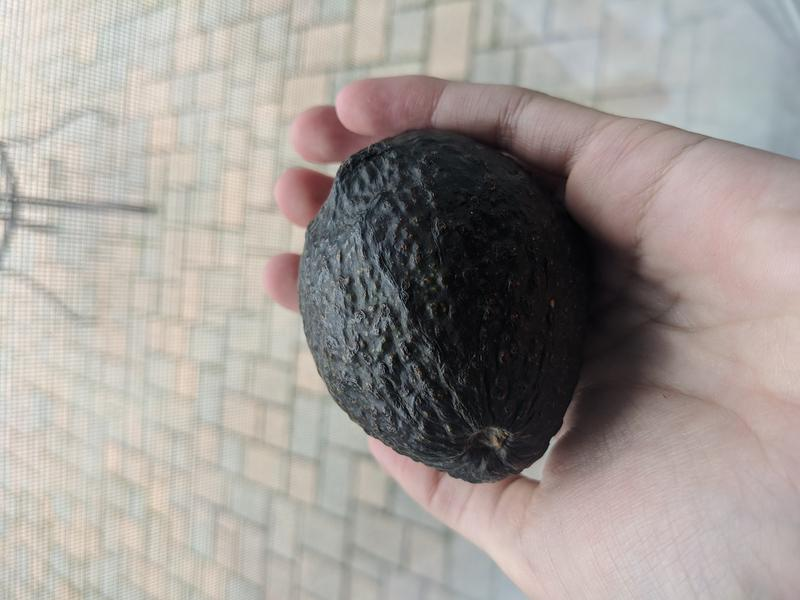avocado: (296, 128, 594, 482)
